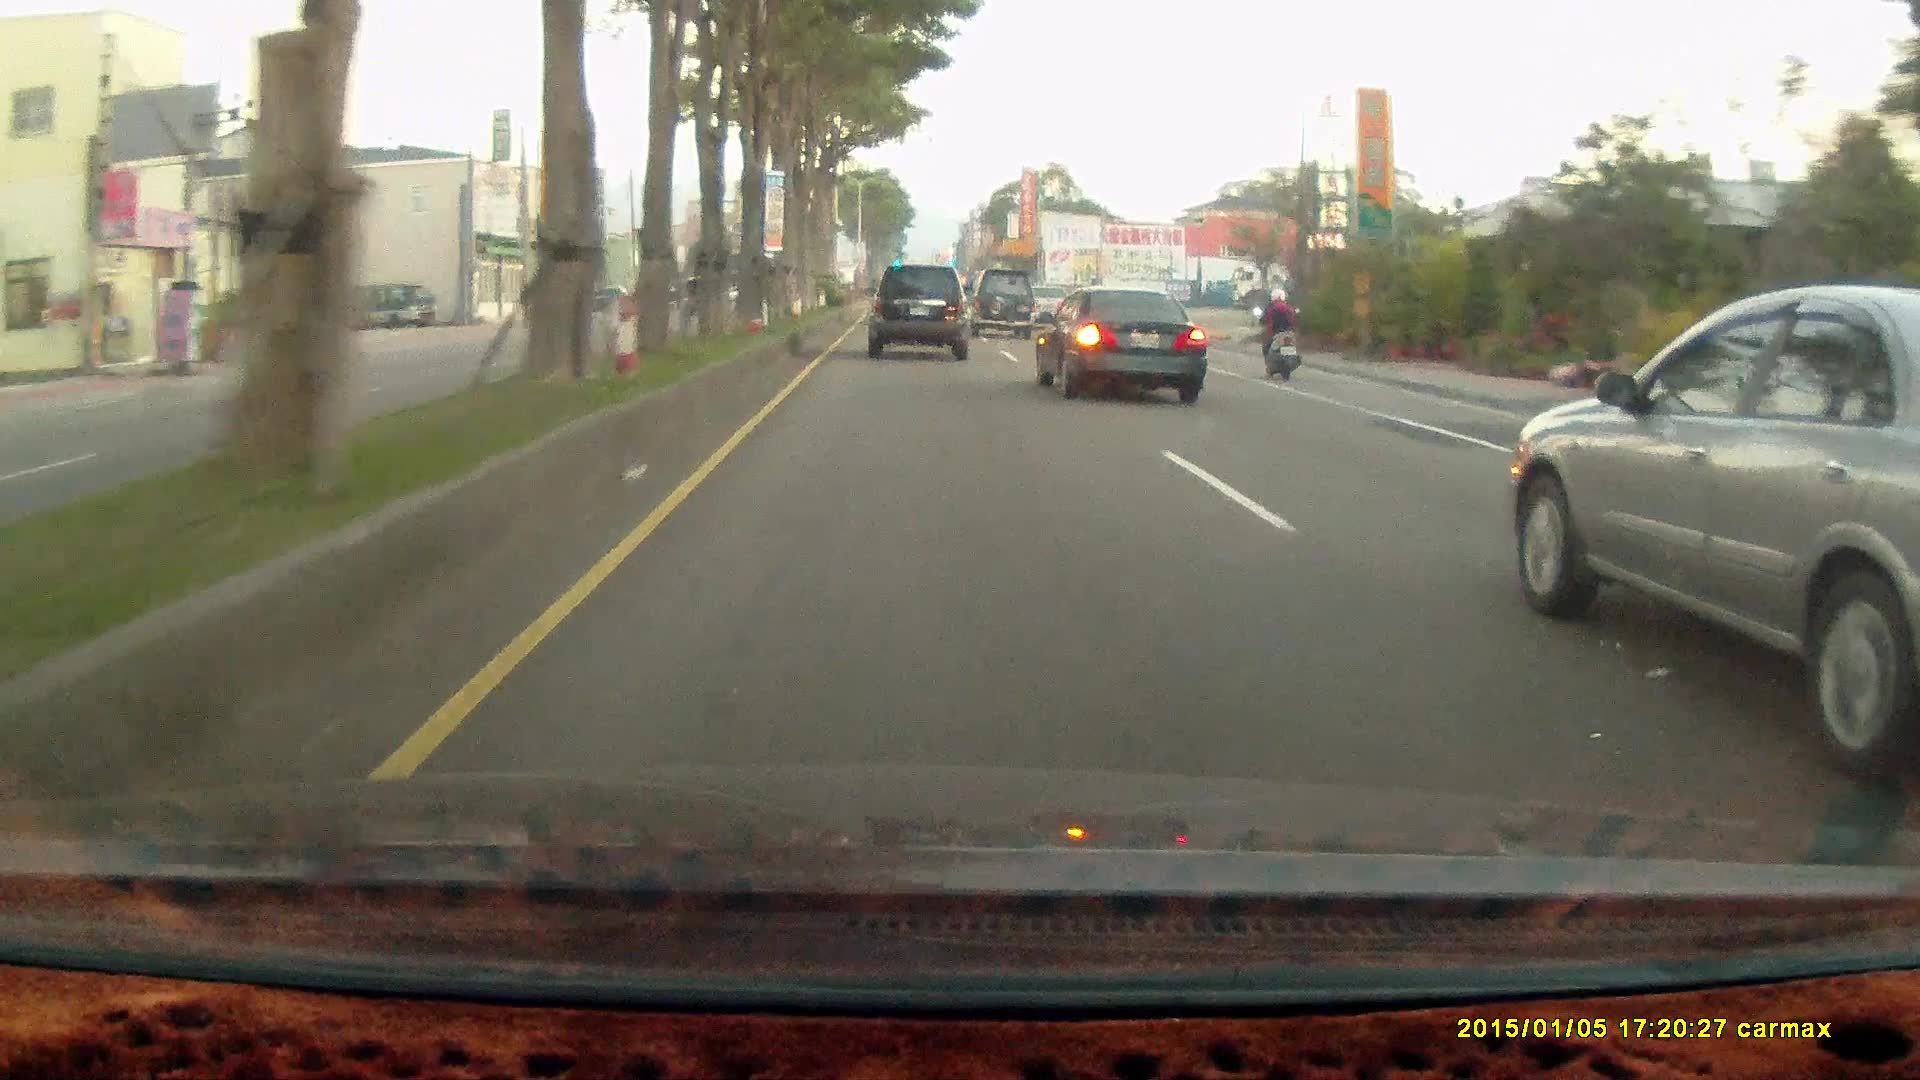rider: (1246, 277, 1314, 395), (1250, 284, 1302, 378)
vehicle: (1499, 290, 1920, 788), (1032, 288, 1211, 405), (1034, 287, 1206, 407), (1230, 264, 1439, 314), (863, 261, 968, 359), (868, 264, 971, 362), (965, 270, 1035, 345), (965, 267, 1035, 340), (341, 282, 438, 329), (344, 281, 437, 328)
